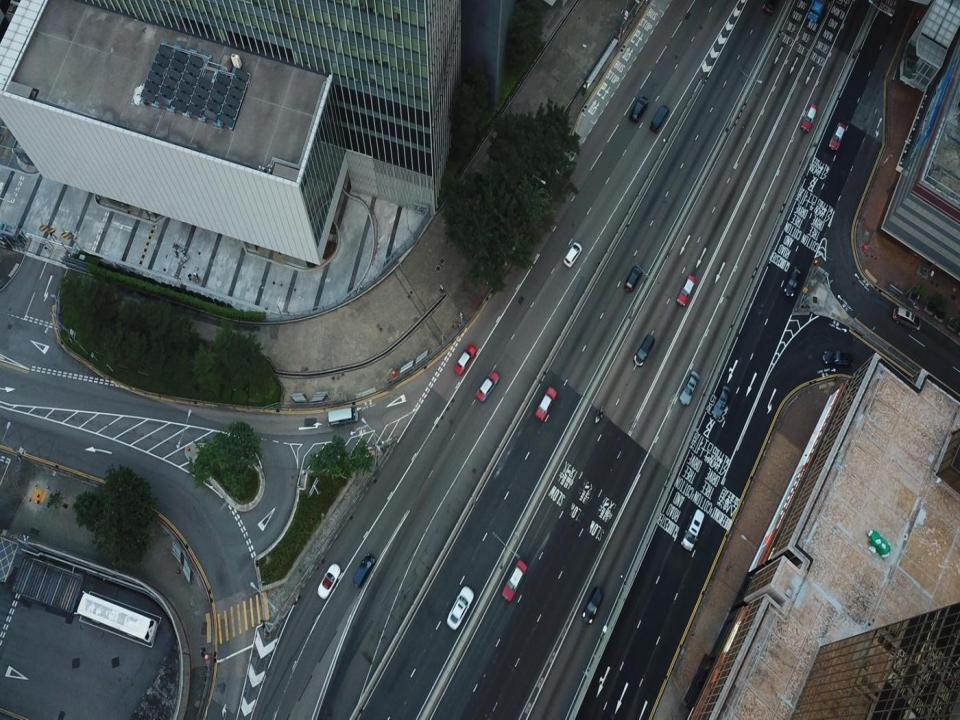bus: (74, 589, 158, 645)
car: (501, 558, 528, 601), (447, 586, 473, 630), (316, 563, 340, 598), (582, 587, 604, 625), (475, 371, 500, 402), (534, 385, 556, 420), (353, 552, 375, 586), (679, 369, 699, 406), (453, 344, 477, 374), (650, 103, 670, 134), (712, 384, 730, 418), (677, 273, 695, 307), (829, 120, 847, 152), (782, 267, 801, 297), (630, 96, 649, 123), (801, 102, 818, 132), (563, 242, 581, 268), (823, 350, 853, 365), (624, 266, 640, 291), (762, 2, 778, 13)
van: (683, 508, 705, 549), (633, 334, 655, 366), (894, 306, 920, 332), (328, 408, 358, 426)
